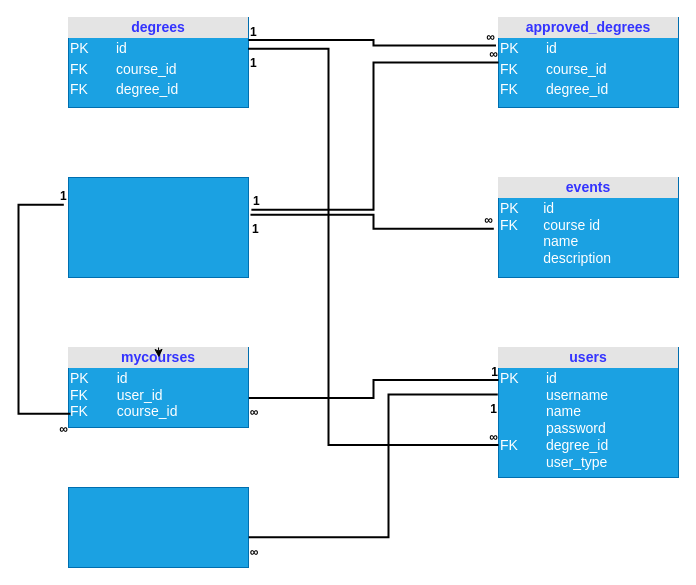
Image size: 696x585. Some labels were removed from this diagram. Each missing label, with the centre of its shape:
courses PK id code name credit: pixel 158 227
tokens PK FK token user_id expire_datetime: pixel 158 527
